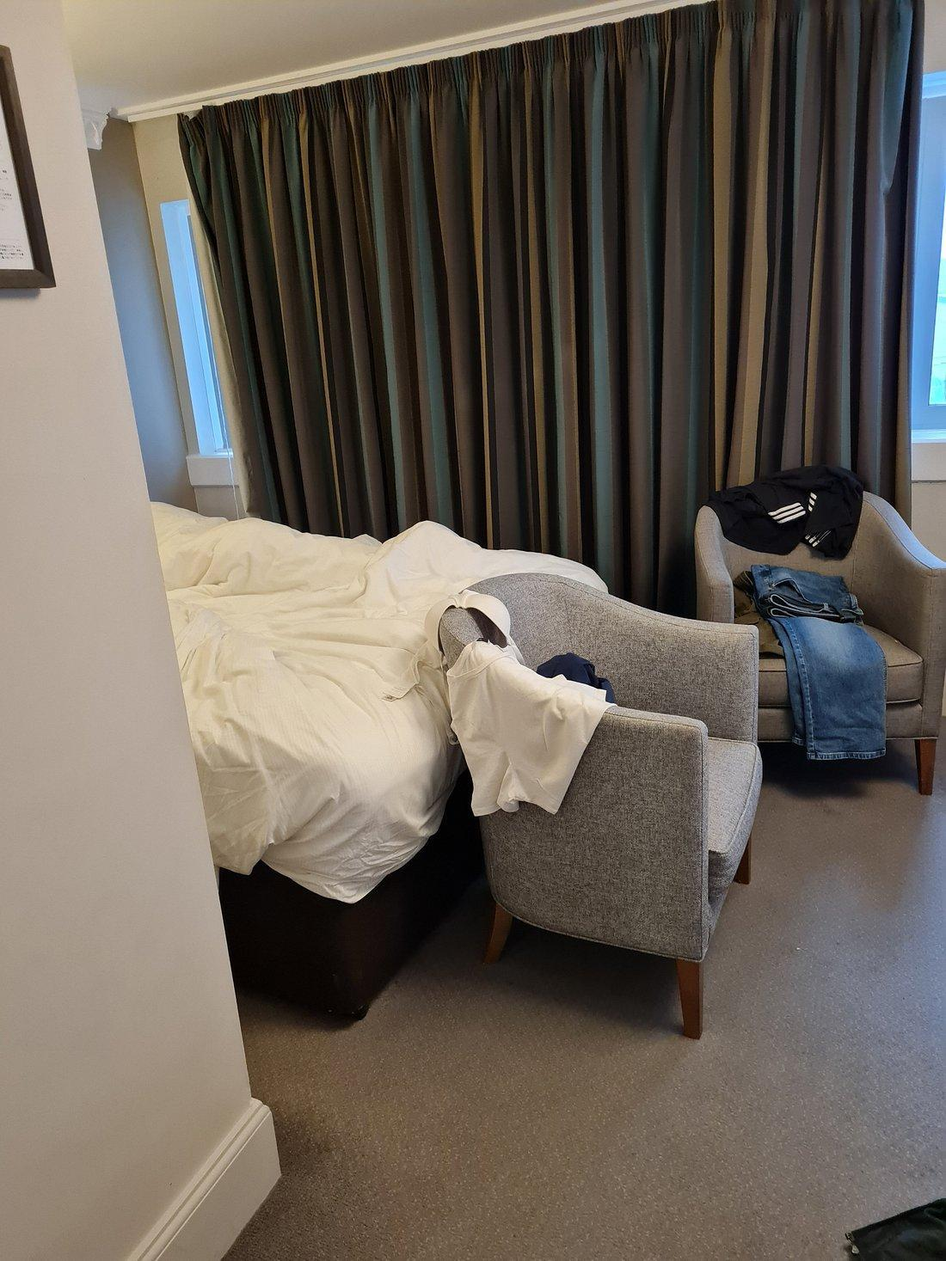chair: (454, 580, 780, 1036), (686, 501, 946, 804)
messy_bed: (161, 505, 602, 1027)
